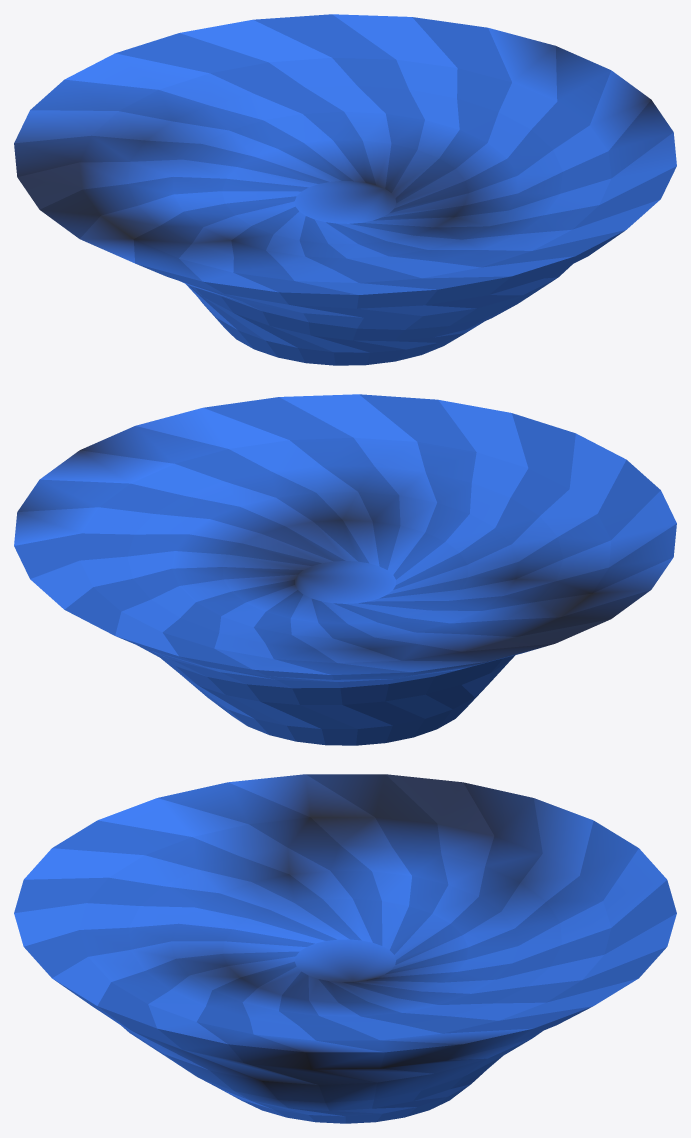
File: Map1 1.fbx
The picture shows the model from 3 angles, top to bottom: view 1: azimuth 30°, elevation 25°; view 2: azimuth 150°, elevation 25°; view 3: azimuth 270°, elevation 25°; orthographic projection.
Visible parts, largest first — view 1: Grid; view 2: Grid; view 3: Grid.
Boxes of the visible parts, x1=… form: Grid: x1=14, y1=14, x2=676, y2=365; Grid: x1=14, y1=394, x2=676, y2=745; Grid: x1=14, y1=774, x2=676, y2=1123.
Bounding box in the file's own units: 49.64 × 13.08 × 50.
